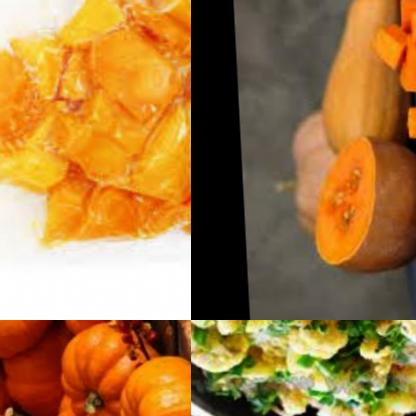cayliflower: (191, 320, 416, 416)
pumpkin: (0, 0, 191, 251), (302, 134, 416, 277), (307, 0, 416, 149), (50, 320, 153, 416), (283, 100, 348, 240), (0, 323, 70, 416), (103, 355, 191, 416), (369, 0, 416, 97), (0, 320, 55, 363), (0, 344, 15, 416), (400, 102, 416, 146)
